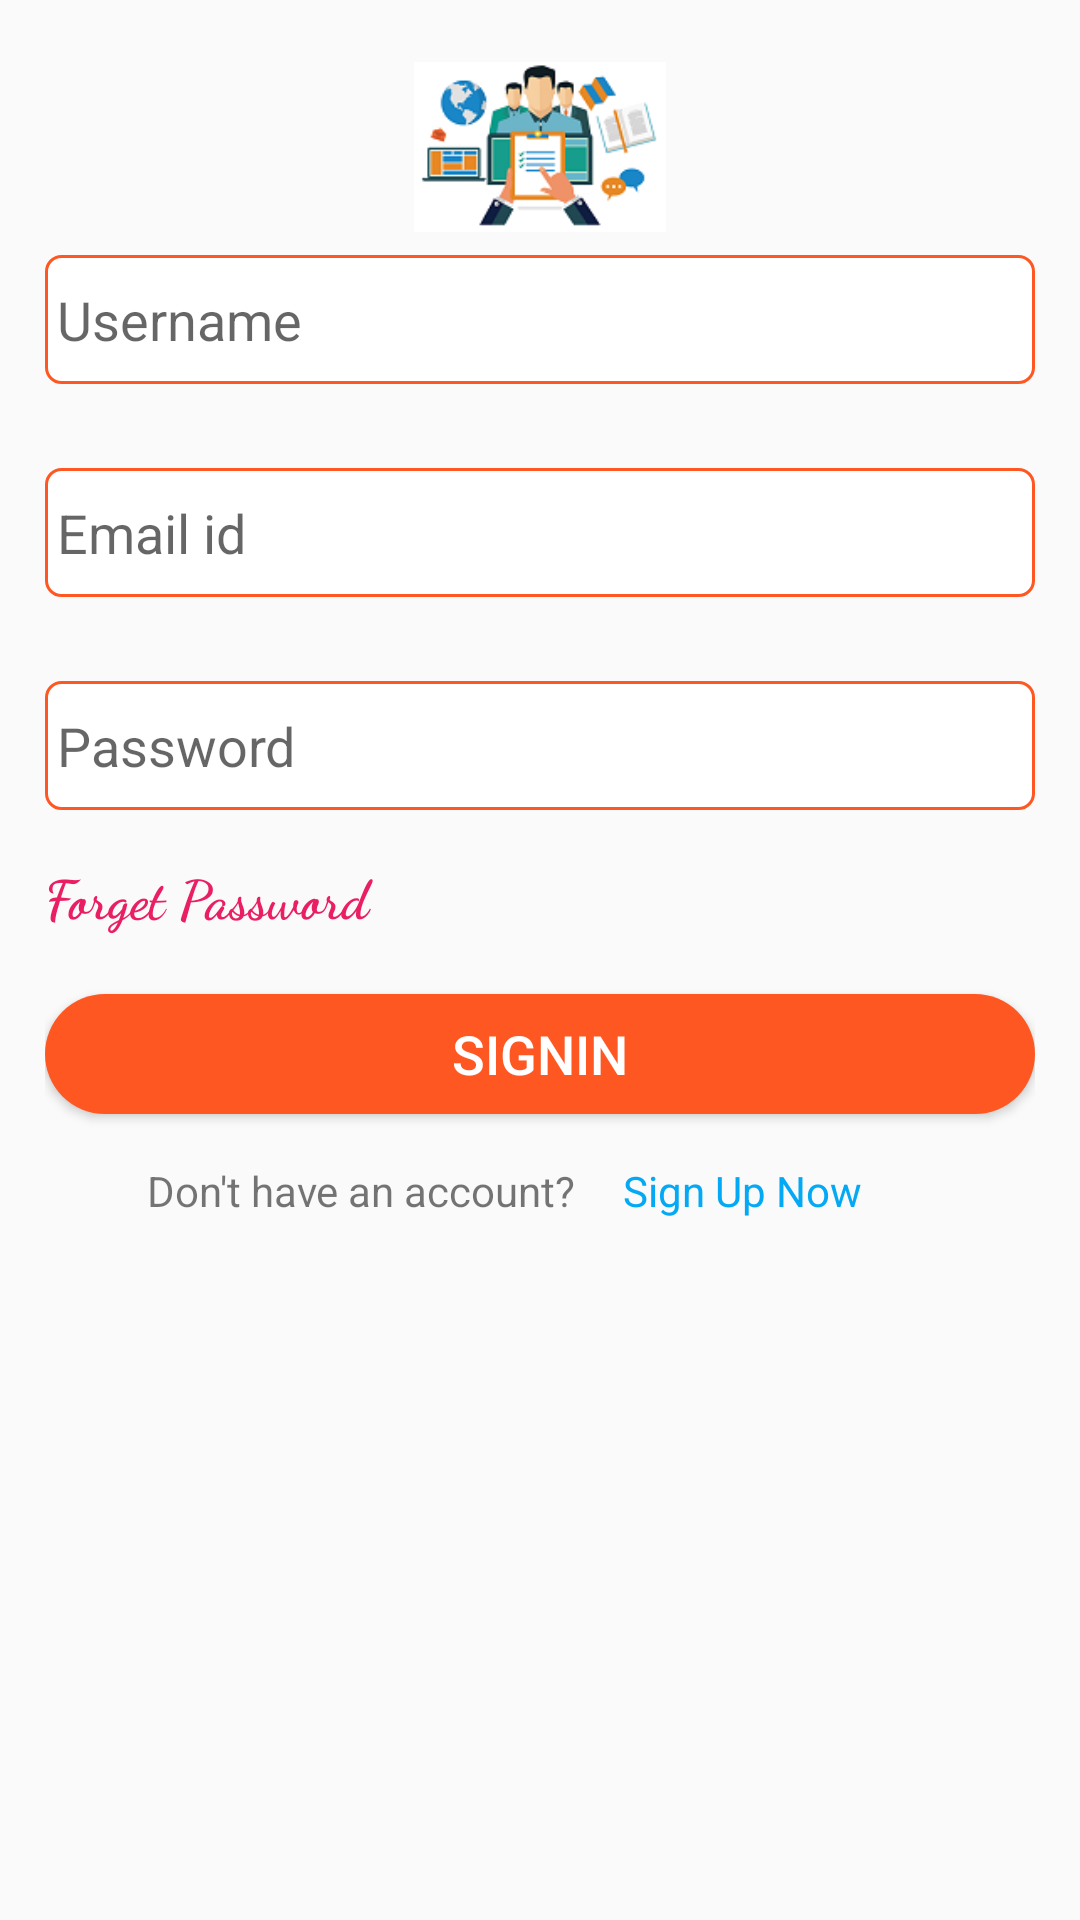

Icons on this 1080x1920 Android screen, each with its box as (x1, y1, x2, y2):
recruitment: (422, 65, 656, 226)
